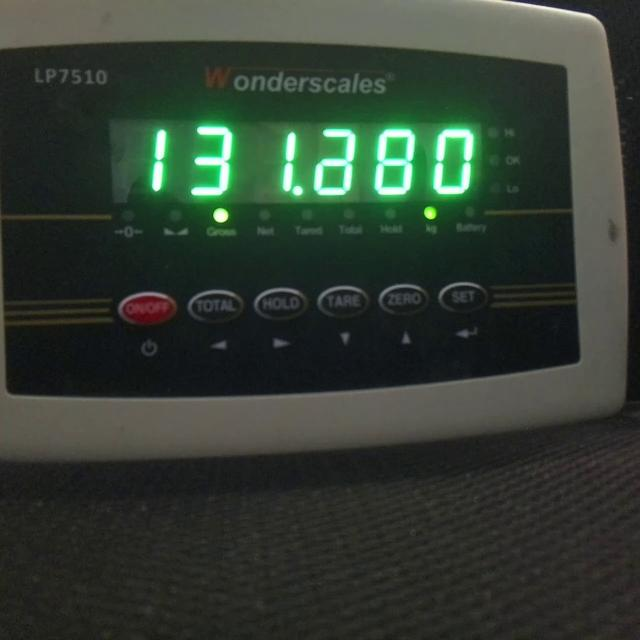.: (292, 185, 306, 197)
0: (433, 127, 473, 194)
1: (281, 131, 299, 194), (150, 129, 167, 192)
2: (312, 120, 356, 203)
3: (191, 126, 233, 196)
8: (374, 128, 416, 195)
